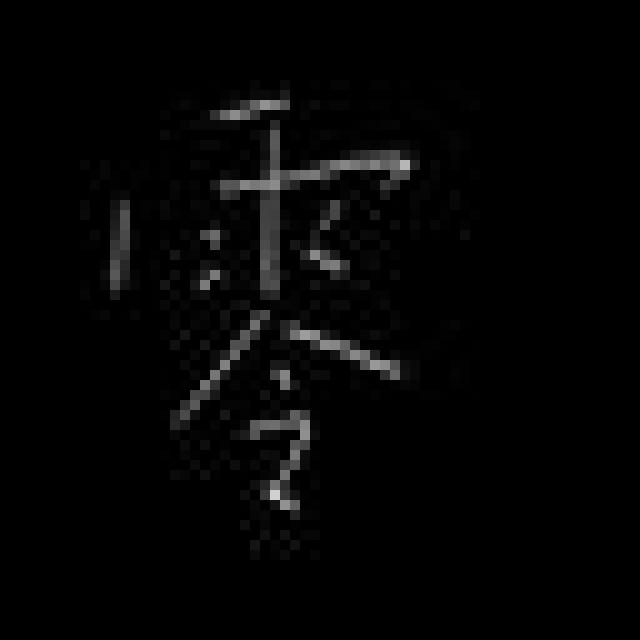0 -zero-: (92, 84, 424, 529)
